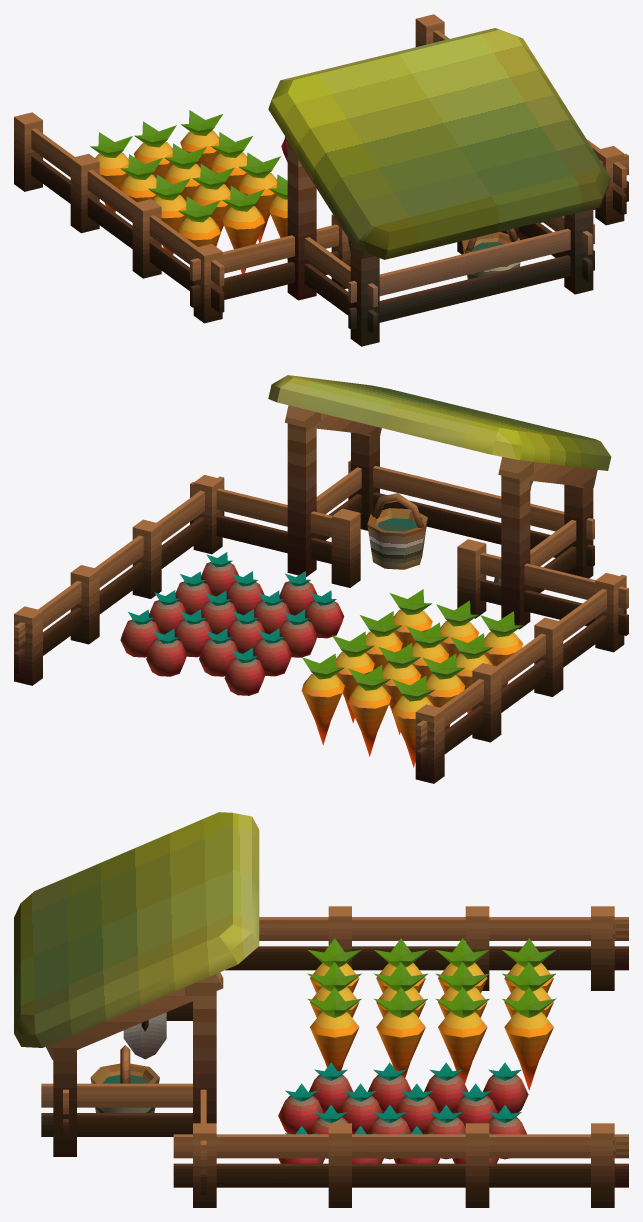
Rendered from simple_low_poly_farm_lvl1.glb.
3 renders of one model, top to bottom at view 1: azimuth 30°, elevation 25°; view 2: azimuth 150°, elevation 25°; view 3: azimuth 270°, elevation 25°, orthographic. The views are drawn at different scales.
Parts seen in each view (by area): view 1: farm_lvl1_Material #25_0; view 2: farm_lvl1_Material #25_0; view 3: farm_lvl1_Material #25_0.
Boxes of the visible parts, <box> form: farm_lvl1_Material #25_0: <box>14,14,628,346</box>; farm_lvl1_Material #25_0: <box>14,375,628,783</box>; farm_lvl1_Material #25_0: <box>14,812,628,1207</box>.
Size of the model in its own units: 4.75 by 2.4 by 5.23.
Materials: 1 (1 with a texture image).
